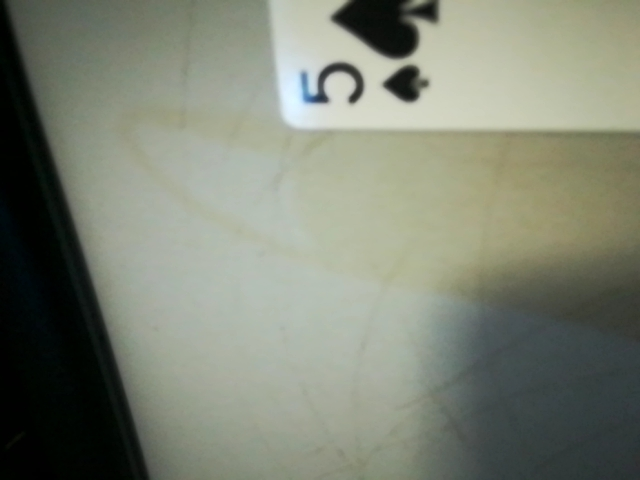ht 5: (288, 30, 446, 126)
